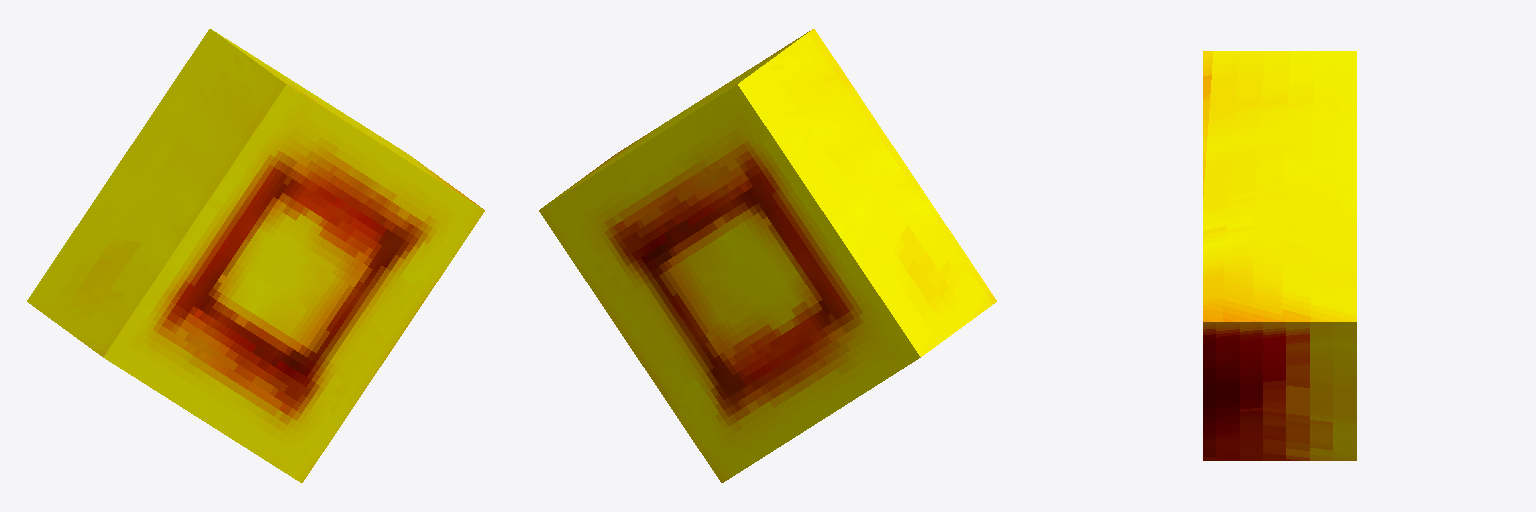
3 views of the same model, side by side, from view 1: azimuth 30°, elevation 25°; view 2: azimuth 150°, elevation 25°; view 3: azimuth 270°, elevation 25° (orthographic).
Parts seen in each view (by area): view 1: Box01.001; view 2: Box01.001; view 3: Box01.001.
Boxes of the visible parts, x1=… form: Box01.001: x1=27, y1=29, x2=484, y2=482; Box01.001: x1=539, y1=29, x2=996, y2=482; Box01.001: x1=1203, y1=51, x2=1356, y2=460.
Bounding box in the file's own units: 3.64 × 3.67 × 1.26.
1 materials, 1 textured.